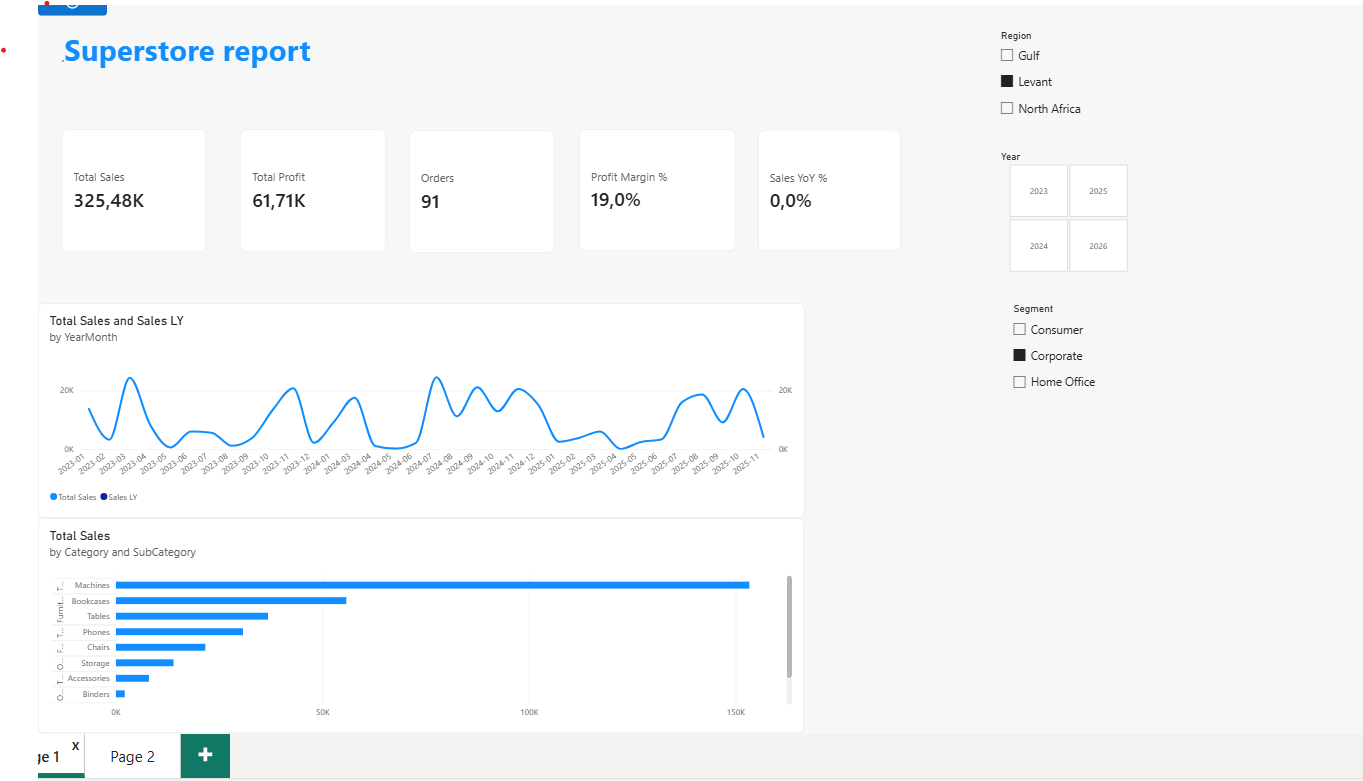

The page's visual inventory and layout, read from the dashboard file:
{"tool":"powerbi","page":{"name":"Page 1","canvas":[1920,1080],"ordinal":0},"visuals":[{"type":"cardVisual","fields":{"Data":["Fact_Sales.Total Sales"]},"box":[34,204.3,209.9,177],"z":0},{"type":"cardVisual","fields":{"Data":["Fact_Sales.Total Profit"]},"box":[292.8,204.3,210,177],"z":1},{"type":"cardVisual","fields":{"Data":["Fact_Sales.Orders"]},"box":[537.9,206.5,210,177],"z":2},{"type":"lineChart","fields":{"Category":["Dim_Date.YearMonth"],"Y":["Fact_Sales.Total Sales"],"Y2":["Fact_Sales.Sales LY"]},"box":[0,456.2,1109.4,310.8],"z":3},{"type":"clusteredBarChart","fields":{"Category":["Dim_Product.Category","Dim_Product.SubCategory"],"Y":["Fact_Sales.Total Sales"]},"box":[0,767.1,1109,311],"z":4},{"type":"actionButton","box":[0,0,100,40],"z":5},{"type":"slicer","fields":{"Values":["Dim_Geography.Region"]},"box":[1386.7,59,210,177],"z":7},{"type":"slicer","fields":{"Values":["Dim_Date.Year"]},"box":[1386.7,236,210,177],"z":8},{"type":"cardVisual","fields":{"Data":["Fact_Sales.Profit Margin %"]},"box":[783,204.3,226.7,176.7],"z":10},{"type":"slicer","fields":{"Values":["Dim_Customer.Segment"]},"box":[1404.8,456.2,210,177],"z":11},{"type":"cardVisual","fields":{"Data":["Fact_Sales.Sales YoY %"]},"box":[1041.7,206.5,207.8,174.4],"z":12},{"type":"textbox","box":[1492,58,210,177],"z":13},{"type":"textbox","box":[34,59,565.1,56.7],"z":14}]}

Visuals, with their boxes on the page's 1920x1080 design canvas (x1, y1, x2, y2). These are canvas units, not pixel positions in the 1363x781 screenshot, which may show the page scaled, cropped or inside an application window:
cardVisual - Fact_Sales.Total Sales: bbox(34, 204, 244, 381)
cardVisual - Fact_Sales.Total Profit: bbox(293, 204, 503, 381)
cardVisual - Fact_Sales.Orders: bbox(538, 206, 748, 384)
lineChart - Dim_Date.YearMonth x Fact_Sales.Total Sales: bbox(0, 456, 1109, 767)
clusteredBarChart - Dim_Product.Category x Dim_Product.SubCategory: bbox(0, 767, 1109, 1078)
actionButton: bbox(0, 0, 100, 40)
slicer - Dim_Geography.Region: bbox(1387, 59, 1597, 236)
slicer - Dim_Date.Year: bbox(1387, 236, 1597, 413)
cardVisual - Fact_Sales.Profit Margin %: bbox(783, 204, 1010, 381)
slicer - Dim_Customer.Segment: bbox(1405, 456, 1615, 633)
cardVisual - Fact_Sales.Sales YoY %: bbox(1042, 206, 1250, 381)
textbox: bbox(1492, 58, 1702, 235)
textbox: bbox(34, 59, 599, 116)
